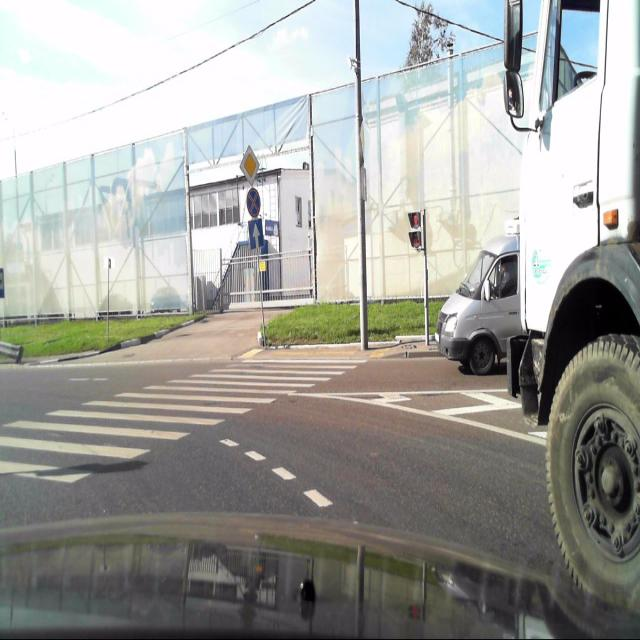road sign: (239, 141, 262, 185), (248, 219, 265, 250)
